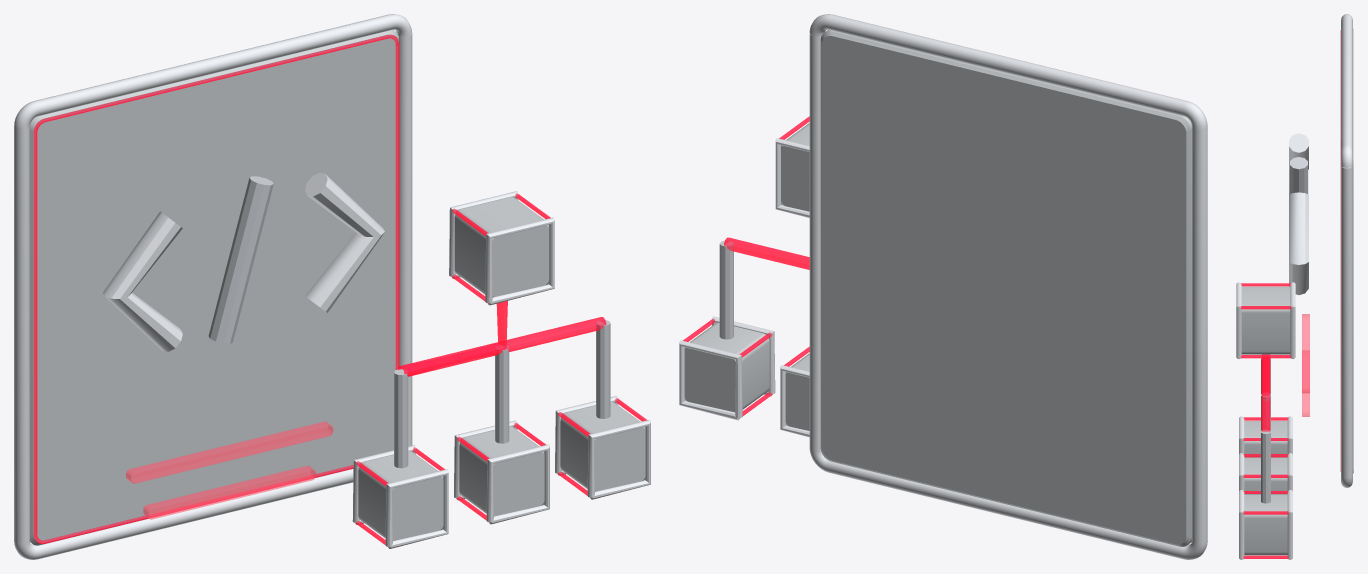
Rendered from 31-metadata.glb.
The picture shows the model from 3 angles, left to right: view 1: azimuth 30°, elevation 25°; view 2: azimuth 150°, elevation 25°; view 3: azimuth 270°, elevation 25°; orthographic projection. The views are drawn at different scales.
Visible parts, largest first — view 1: BC clear optical glass, BC polished silver metal, BC neon red glass edge, BC satin silver metal, BC ruby optical glass; view 2: BC clear optical glass, BC polished silver metal, BC neon red glass edge, BC satin silver metal; view 3: BC polished silver metal, BC clear optical glass, BC neon red glass edge, BC satin silver metal, BC ruby optical glass.
Part boxes in pixels (x1=…): BC clear optical glass: x1=30, y1=29, x2=645, y2=545; BC polished silver metal: x1=14, y1=14, x2=650, y2=559; BC neon red glass edge: x1=33, y1=34, x2=647, y2=547; BC satin silver metal: x1=208, y1=176, x2=610, y2=468; BC ruby optical glass: x1=126, y1=421, x2=333, y2=519; BC clear optical glass: x1=684, y1=29, x2=1191, y2=546; BC polished silver metal: x1=679, y1=14, x2=1207, y2=559; BC neon red glass edge: x1=683, y1=116, x2=809, y2=418; BC satin silver metal: x1=719, y1=240, x2=733, y2=339; BC polished silver metal: x1=1236, y1=14, x2=1352, y2=559; BC clear optical glass: x1=1241, y1=29, x2=1353, y2=555; BC neon red glass edge: x1=1240, y1=30, x2=1340, y2=558; BC satin silver metal: x1=1261, y1=157, x2=1307, y2=503; BC ruby optical glass: x1=1302, y1=314, x2=1309, y2=416.
Bounding box in the file's own units: 2.07 × 1.63 × 0.4986.
